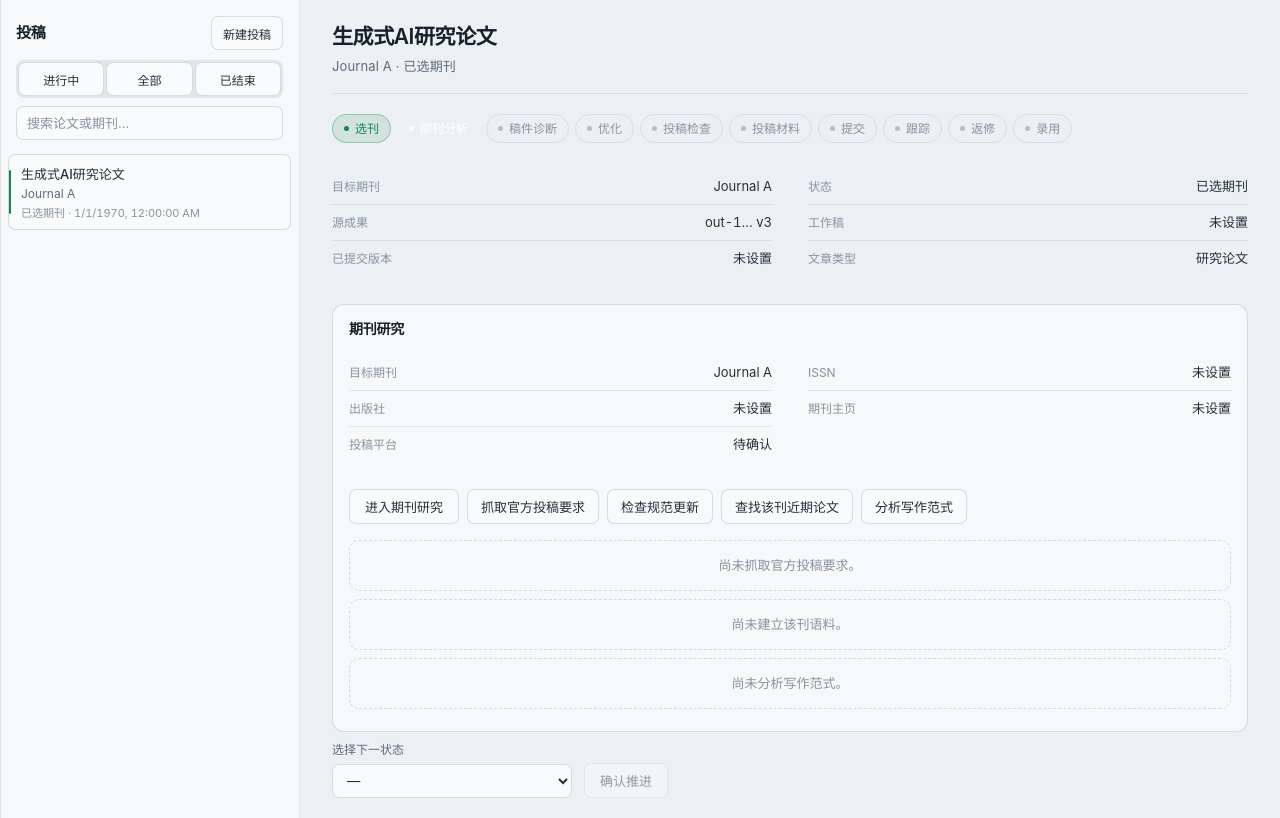
Test case: SubmissionsPage 期刊研究（P1） › 抓取成功后渲染官方要求清单（含来源链接）
Click the button "抓取官方投稿要求".
click(533, 507)  # box [467, 489, 599, 524]
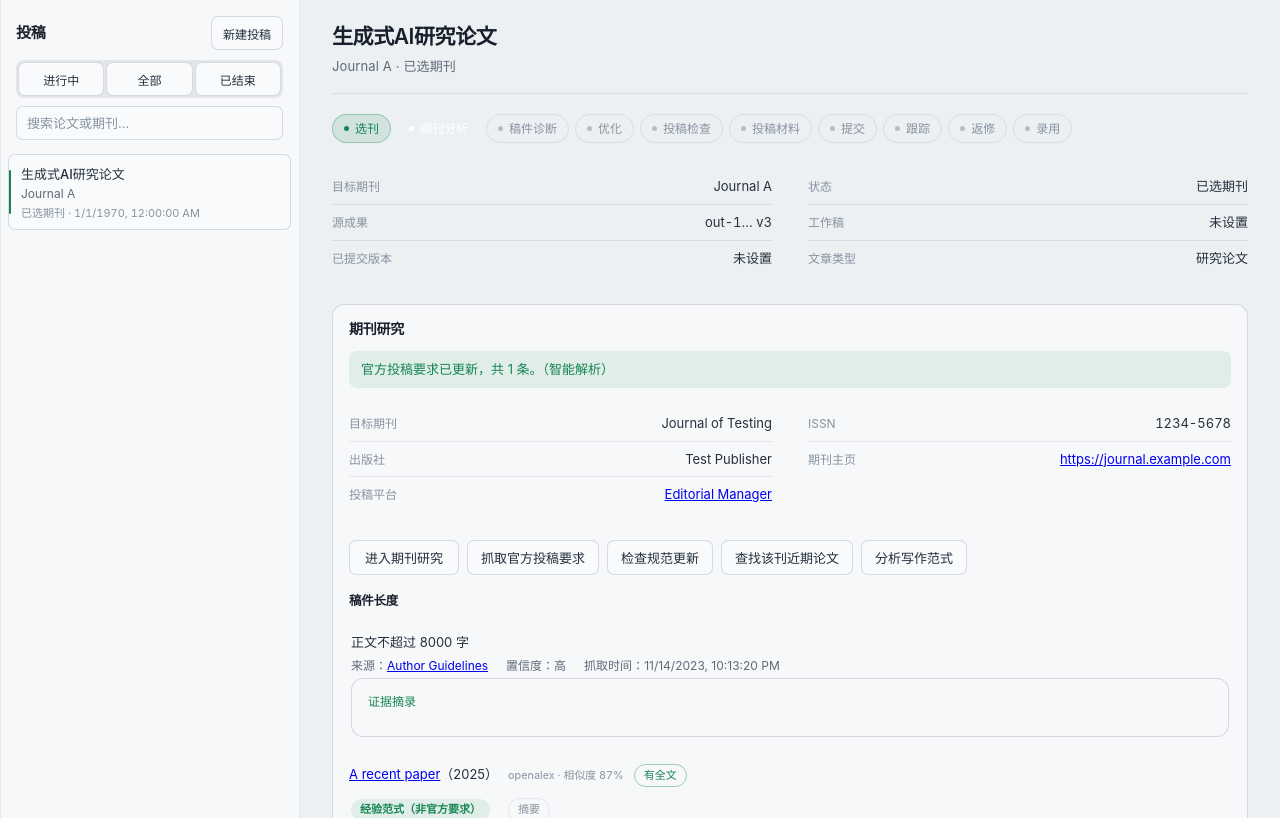
Expected: the text "正文不超过 8000 字" is shown, [351, 634, 469, 650]
Expected: the heading "稿件长度" is shown, [349, 593, 398, 608]
